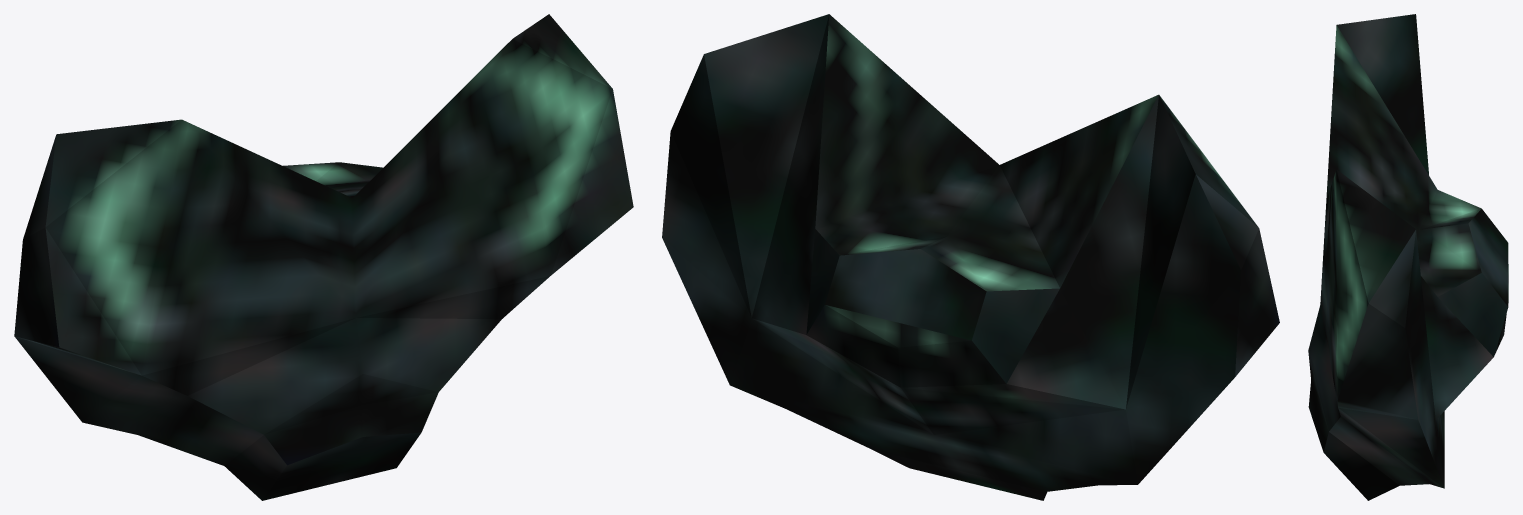
Rendered from darklingskull.obj.
3 views of the same model, side by side, from view 1: azimuth 30°, elevation 25°; view 2: azimuth 150°, elevation 25°; view 3: azimuth 270°, elevation 25° (orthographic). The views are drawn at different scales.
Visible parts, largest first — view 1: Base; view 2: Base; view 3: Base.
Boxes of the visible parts, x1,y1,x2,y2 form: Base: (14, 14, 633, 500); Base: (662, 14, 1279, 500); Base: (1308, 14, 1508, 500).
Size of the model in its own units: 0.6151 by 0.4282 by 0.2076.
